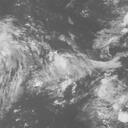cyclone: (30, 47, 94, 98)
